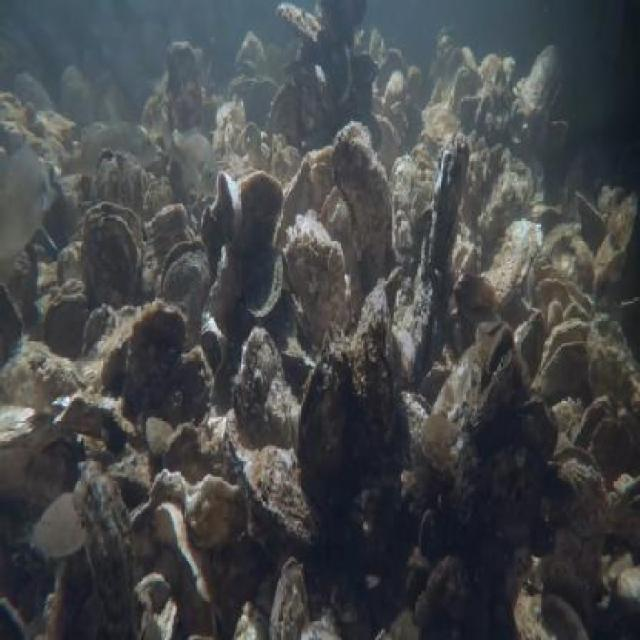Oyster-Closed: (331, 122, 391, 282), (485, 220, 544, 306), (167, 42, 202, 133), (42, 295, 87, 363), (394, 391, 432, 460), (428, 556, 468, 614), (574, 397, 616, 450), (251, 76, 282, 130), (92, 150, 120, 207), (141, 176, 174, 223), (271, 147, 299, 185), (475, 335, 495, 374), (140, 612, 163, 640), (271, 134, 287, 160)
Oyster-Indeterminate: (73, 463, 137, 640), (296, 323, 354, 491), (240, 447, 317, 568), (284, 215, 348, 346), (232, 327, 297, 453), (353, 279, 397, 445), (128, 302, 183, 411), (148, 348, 213, 430), (553, 459, 610, 536), (590, 346, 640, 421), (238, 173, 283, 253), (271, 553, 312, 640), (33, 491, 83, 553), (504, 398, 554, 457), (319, 190, 354, 274), (532, 594, 590, 640), (587, 419, 636, 472), (421, 414, 463, 473), (0, 402, 51, 445), (269, 84, 301, 146), (153, 206, 186, 264), (59, 66, 92, 122), (575, 191, 607, 246), (276, 4, 319, 43), (13, 73, 56, 111), (607, 193, 637, 246), (137, 573, 170, 612), (551, 447, 600, 469), (57, 247, 86, 284), (146, 417, 173, 453), (419, 511, 433, 555), (0, 94, 22, 120), (49, 111, 75, 133)
Oyster-Open: (81, 201, 147, 310), (157, 237, 212, 350), (532, 321, 592, 401), (535, 264, 596, 328), (228, 77, 256, 124), (627, 476, 640, 505)
